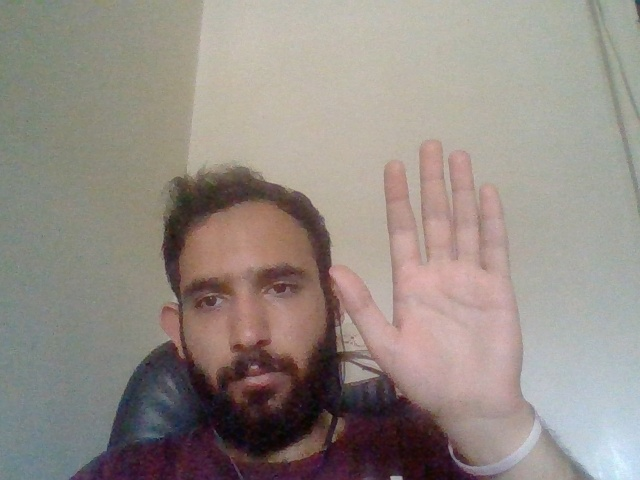Goodbye: (305, 126, 560, 416)
